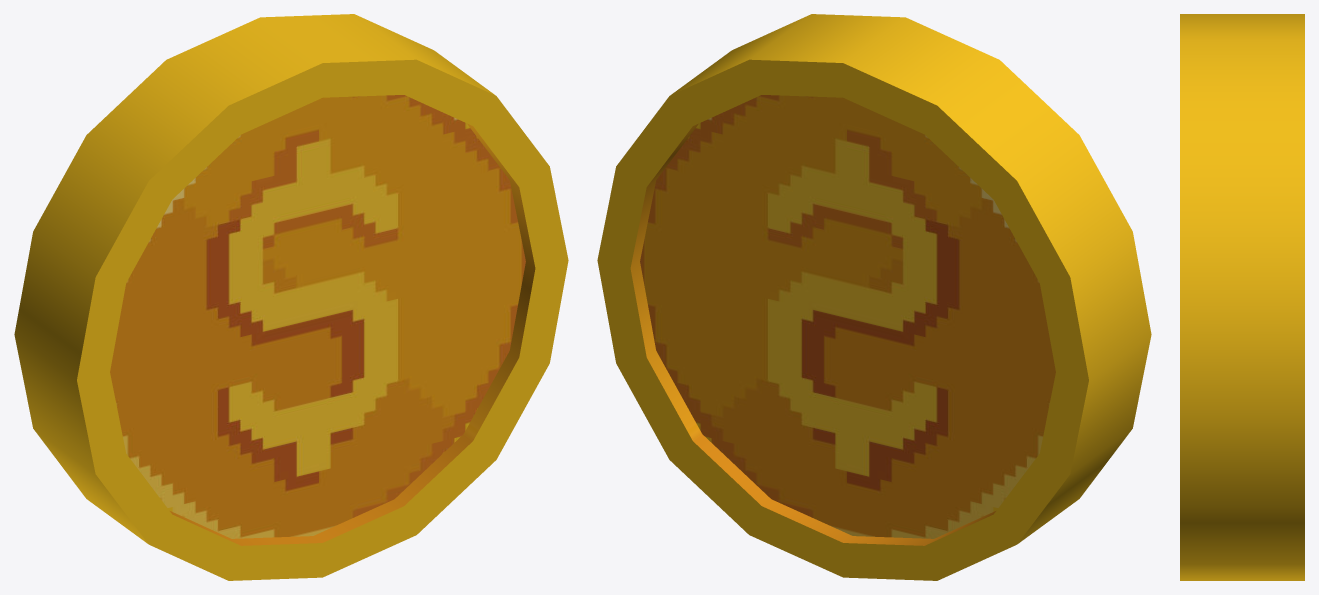
Rendered from GameAC2.fbx.
3 renders of one model, left to right at view 1: azimuth 30°, elevation 25°; view 2: azimuth 150°, elevation 25°; view 3: azimuth 270°, elevation 25°, orthographic.
Visible parts, largest first — view 1: Cylinder; view 2: Cylinder; view 3: Cylinder.
Part boxes in pixels (x1,y1,x2,y2): Cylinder: [14, 14, 568, 580]; Cylinder: [597, 14, 1151, 580]; Cylinder: [1180, 14, 1304, 580].
Bounding box in the file's own units: 46.26 × 46.26 × 10.18.
